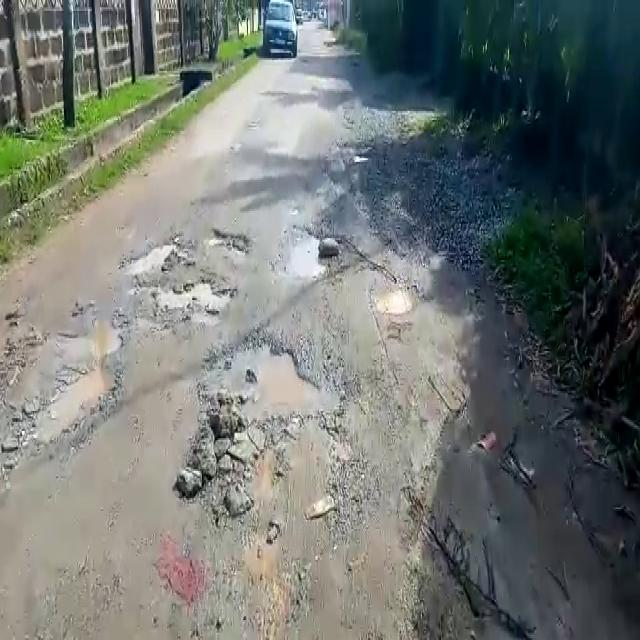Pothole: (0, 322, 123, 458), (194, 335, 340, 427), (273, 224, 340, 277), (123, 237, 186, 283), (167, 274, 236, 314), (371, 280, 418, 320), (206, 227, 254, 258)
